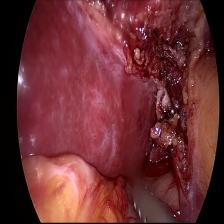Irrigator: (128, 176, 169, 224)
